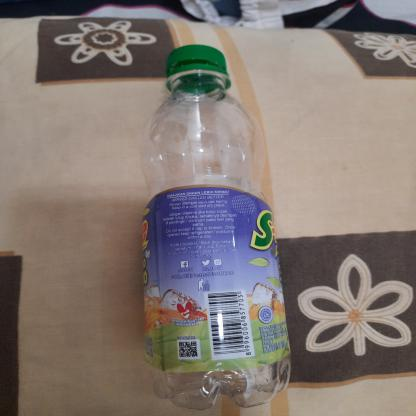bottle: (137, 44, 291, 412)
